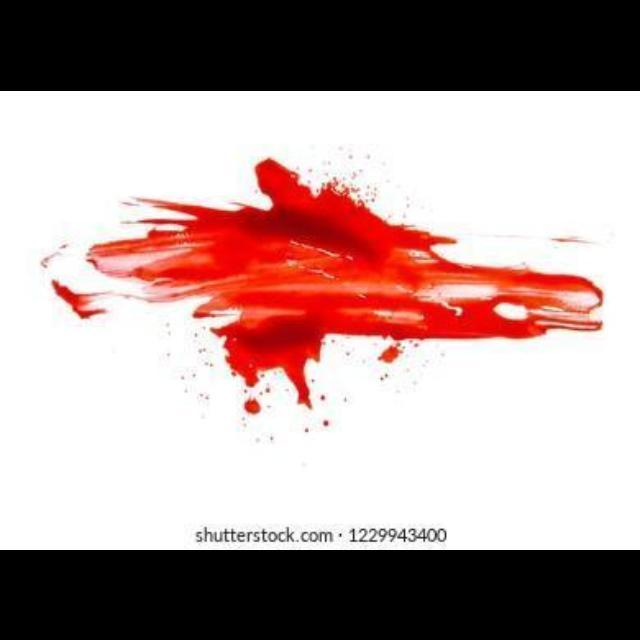blood: (87, 157, 604, 406), (53, 279, 105, 318), (379, 341, 404, 363), (245, 397, 263, 414)
